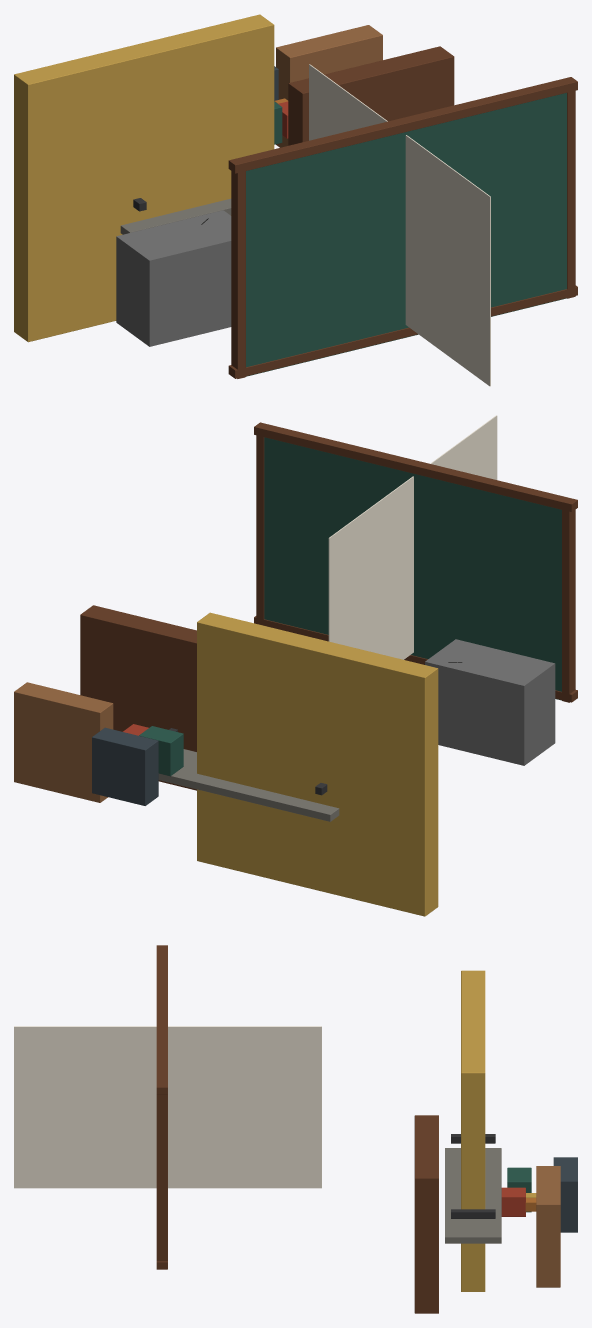
File: S5_exit.glb
3 renders of one model, top to bottom at view 1: azimuth 30°, elevation 25°; view 2: azimuth 150°, elevation 25°; view 3: azimuth 270°, elevation 25°, orthographic. The views are drawn at different scales.
Visible parts, largest first — view 1: epilogue_wall, ANIM_fib_8, SIGN_epilogue, COL_message_desk, ANIM_fib_7, ANIM_fib_6, fibonacci_base; view 2: ANIM_fib_8, epilogue_wall, SIGN_epilogue, COL_message_desk, ANIM_fib_7, ANIM_fib_6, ANIM_fib_5, fibonacci_base, ANIM_fib_4; view 3: SIGN_epilogue, ANIM_fib_8, ANIM_fib_7, fibonacci_base, epilogue_wall, ANIM_fib_6, ANIM_fib_5, ANIM_fib_3, ANIM_fib_4.
Boxes of the visible parts, left/top/right/bottom form: epilogue_wall: left=228, top=77, right=577, bottom=378; ANIM_fib_8: left=14, top=14, right=274, bottom=342; SIGN_epilogue: left=309, top=64, right=490, bottom=386; COL_message_desk: left=116, top=210, right=231, bottom=346; ANIM_fib_7: left=288, top=46, right=454, bottom=145; ANIM_fib_6: left=276, top=25, right=382, bottom=147; fibonacci_base: left=120, top=198, right=231, bottom=234; ANIM_fib_8: left=197, top=612, right=438, bottom=916; epilogue_wall: left=254, top=422, right=577, bottom=702; SIGN_epilogue: left=328, top=415, right=497, bottom=659; COL_message_desk: left=425, top=639, right=555, bottom=765; ANIM_fib_7: left=80, top=605, right=196, bottom=790; ANIM_fib_6: left=14, top=682, right=113, bottom=802; ANIM_fib_5: left=92, top=727, right=158, bottom=805; fibonacci_base: left=158, top=728, right=339, bottom=821; ANIM_fib_4: left=139, top=726, right=183, bottom=776; SIGN_epilogue: left=14, top=1026, right=321, bottom=1188; ANIM_fib_8: left=461, top=970, right=485, bottom=1291; ANIM_fib_7: left=414, top=1115, right=438, bottom=1313; fibonacci_base: left=445, top=1134, right=501, bottom=1243; epilogue_wall: left=156, top=945, right=167, bottom=1269; ANIM_fib_6: left=536, top=1166, right=560, bottom=1287; ANIM_fib_5: left=553, top=1157, right=577, bottom=1232; ANIM_fib_3: left=501, top=1187, right=525, bottom=1216; ANIM_fib_4: left=507, top=1167, right=531, bottom=1212.
Bounding box in the file's own units: 4.87 × 3.49 × 6.96.
